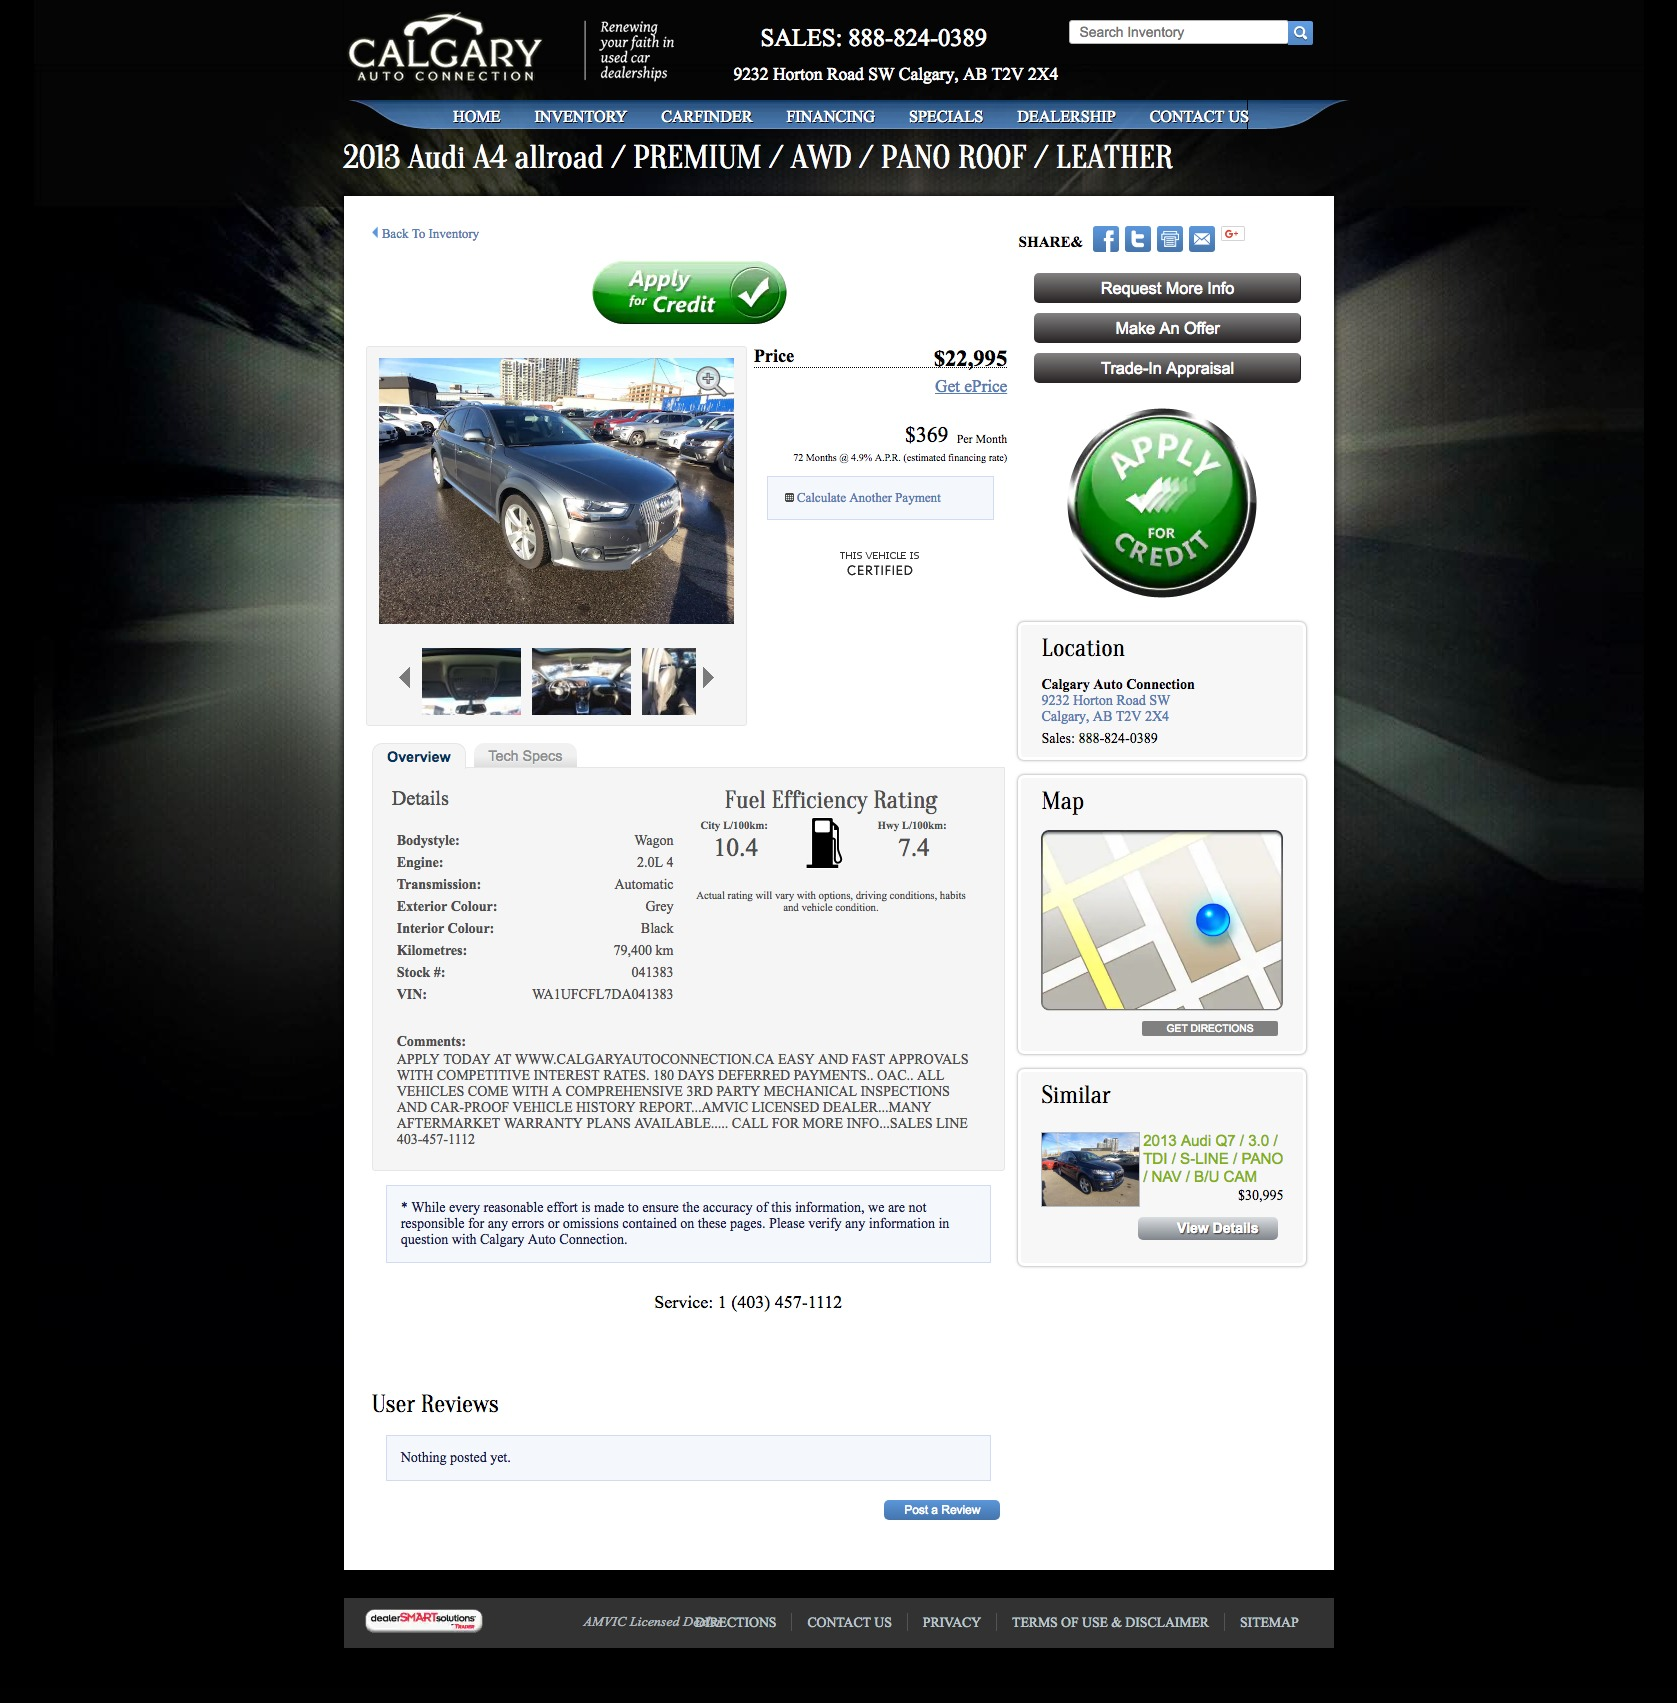car: (702, 666, 716, 689)
